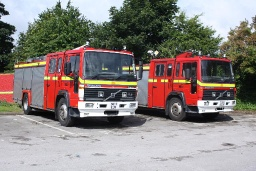truck: (13, 46, 140, 122), (136, 51, 240, 121)
